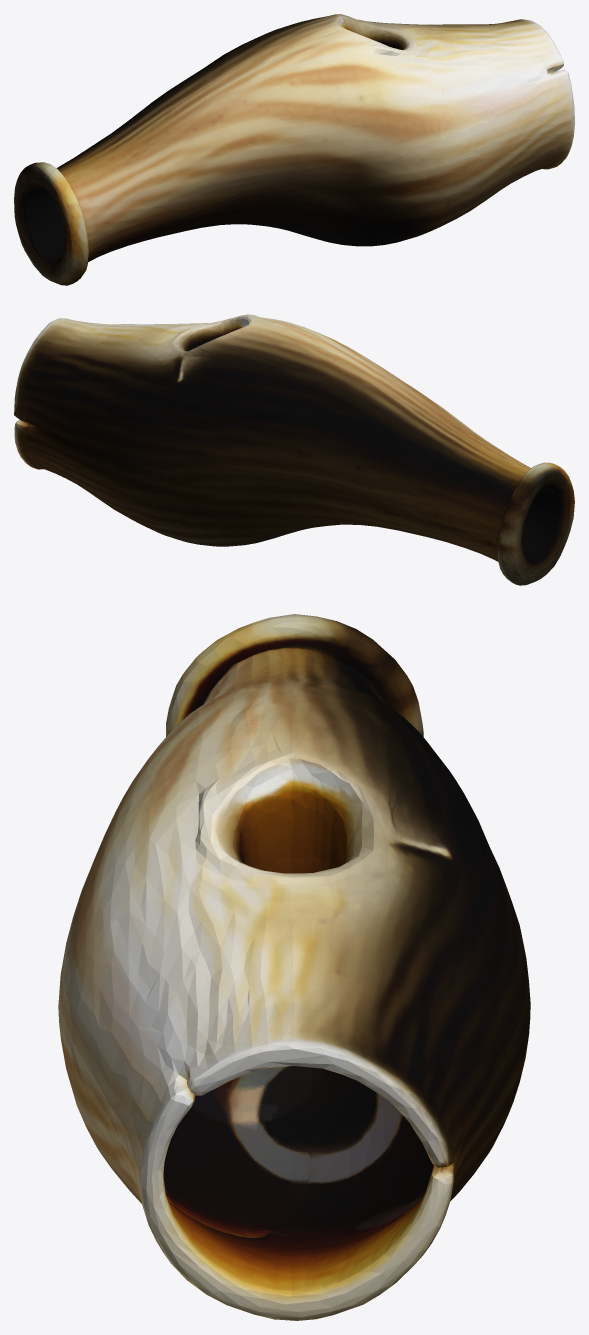
The model's file is seed-shell-survival-whistle-vintage.jpeg.glb.
3 renders of one model, top to bottom at view 1: azimuth 30°, elevation 25°; view 2: azimuth 150°, elevation 25°; view 3: azimuth 270°, elevation 25°, orthographic. The views are drawn at different scales.
Parts seen in each view (by area): view 1: world; view 2: world; view 3: world.
Part boxes in pixels (x1,y1,x2,y2): world: [14, 14, 574, 285]; world: [14, 314, 574, 585]; world: [58, 614, 530, 1320].
Bounding box in the file's own units: 1 × 0.4204 × 0.4112.
1 material, 1 textured.
